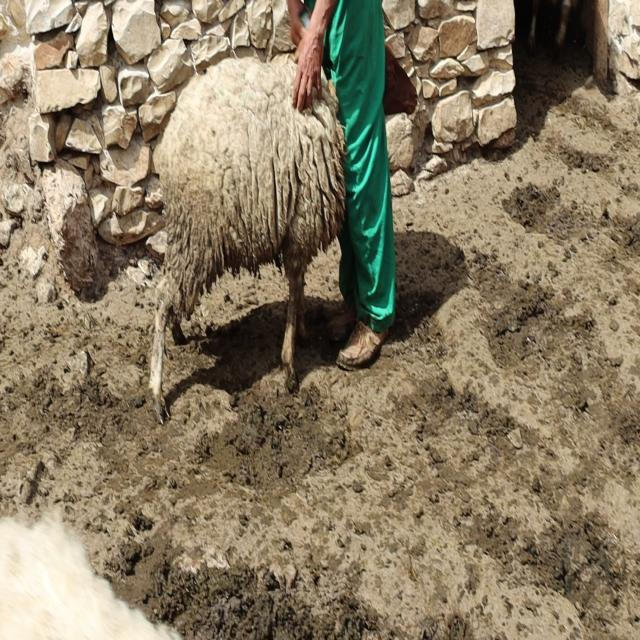Score_4: (149, 58, 345, 420)
